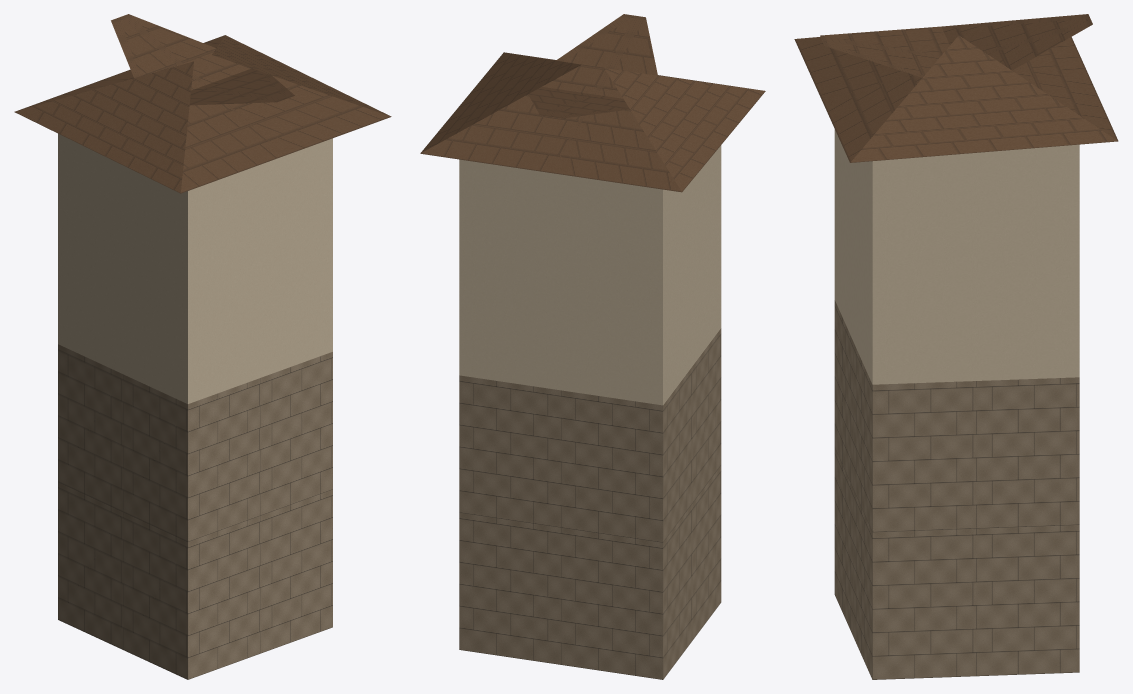
Rendered from bld_c4_5_498.gltf.
The picture shows the model from 3 angles, left to right: view 1: azimuth 30°, elevation 25°; view 2: azimuth 150°, elevation 25°; view 3: azimuth 270°, elevation 25°; orthographic projection. The views are drawn at different scales.
Parts seen in each view (by area): view 1: bld_c4_5_498; view 2: bld_c4_5_498; view 3: bld_c4_5_498.
Part boxes in pixels (x1=…): bld_c4_5_498: x1=14, y1=14, x2=391, y2=679; bld_c4_5_498: x1=420, y1=14, x2=765, y2=679; bld_c4_5_498: x1=794, y1=14, x2=1118, y2=679.
Bounding box in the file's own units: 5.18 × 10 × 4.88.
Materials: 3 (3 with a texture image).
